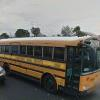Bus: (2, 30, 99, 97)
